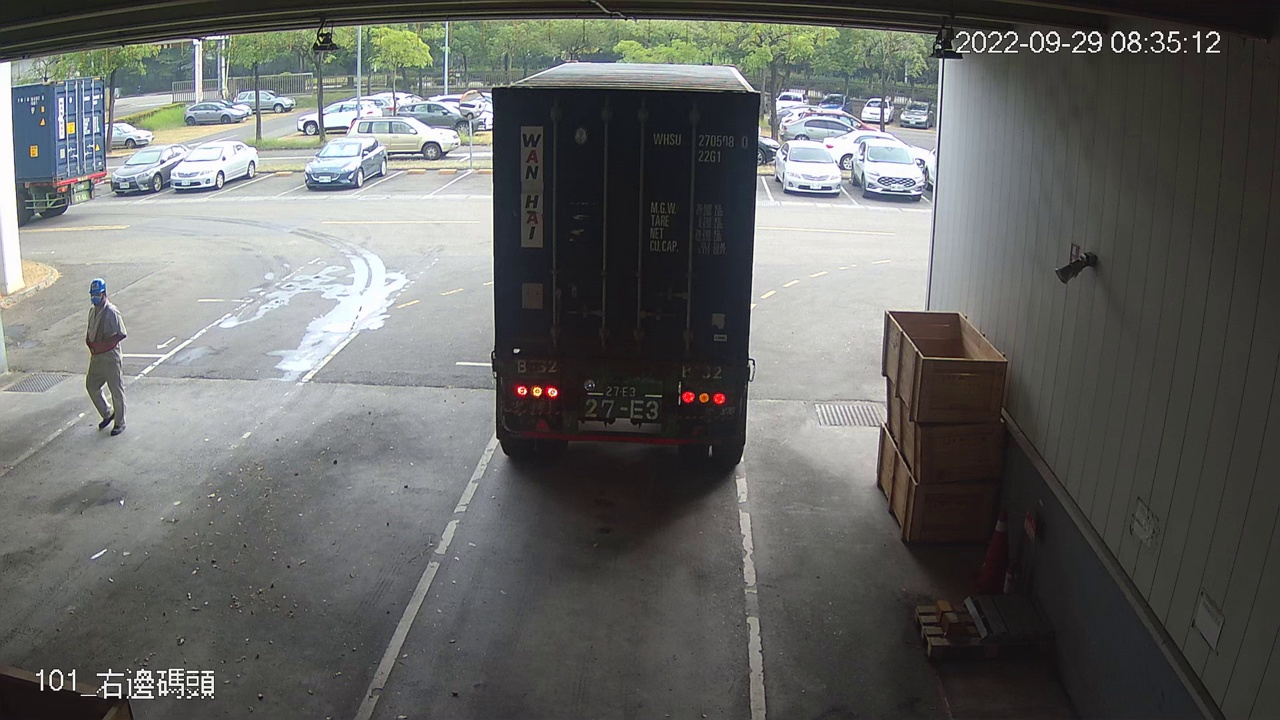container: (648, 125, 752, 169)
